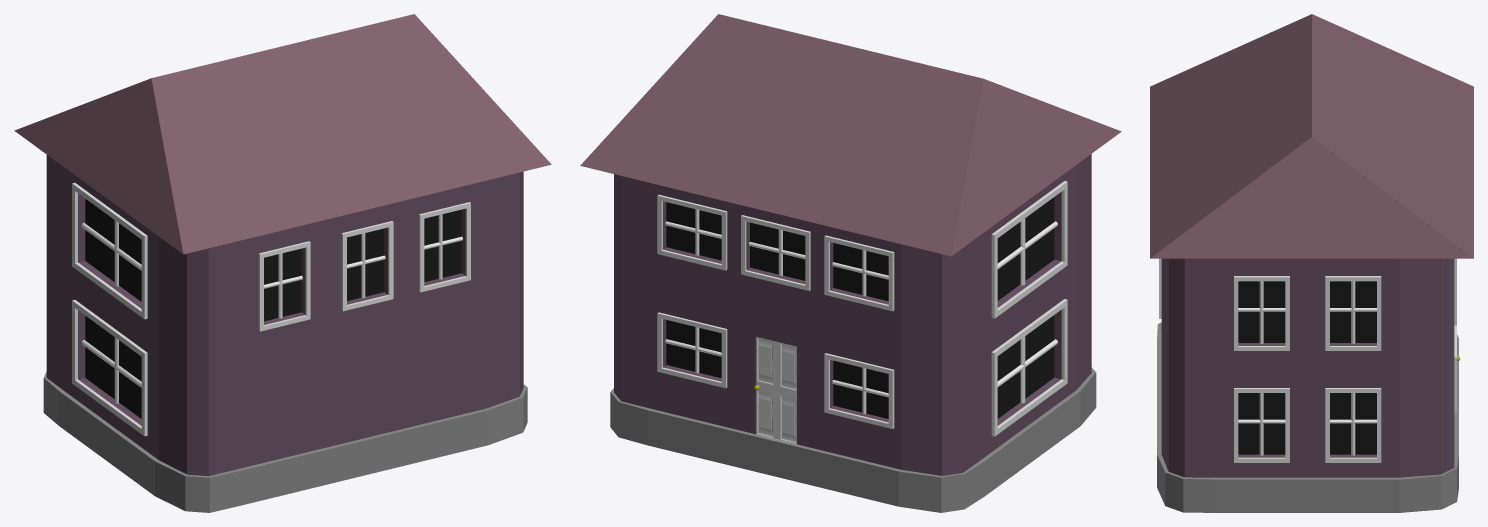
The model's file is house_4.1.fbx.
3 views of the same model, side by side, from view 1: azimuth 30°, elevation 25°; view 2: azimuth 150°, elevation 25°; view 3: azimuth 270°, elevation 25° (orthographic). The views are drawn at different scales.
Visible parts, largest first — view 1: polySurface46; view 2: polySurface46; view 3: polySurface46.
Boxes of the visible parts, left/top/right/bottom form: polySurface46: left=14, top=14, right=551, bottom=512; polySurface46: left=580, top=14, right=1121, bottom=512; polySurface46: left=1150, top=14, right=1473, bottom=512.
Size of the model in its own units: 155698 by 149538 by 123897.
